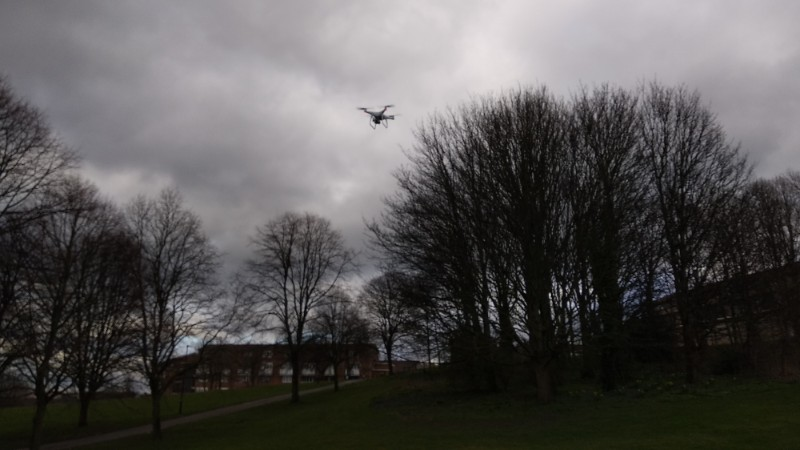drone: (359, 104, 402, 129)
